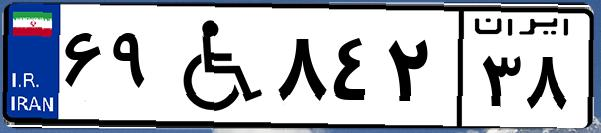2: (385, 28, 445, 110)
3: (475, 38, 525, 113)
4: (330, 28, 385, 110)
6: (57, 26, 110, 100)
8: (270, 28, 330, 110), (525, 38, 570, 115)
9: (110, 28, 158, 98)
ژ (معلولین و جانبازان): (158, 12, 270, 120)
